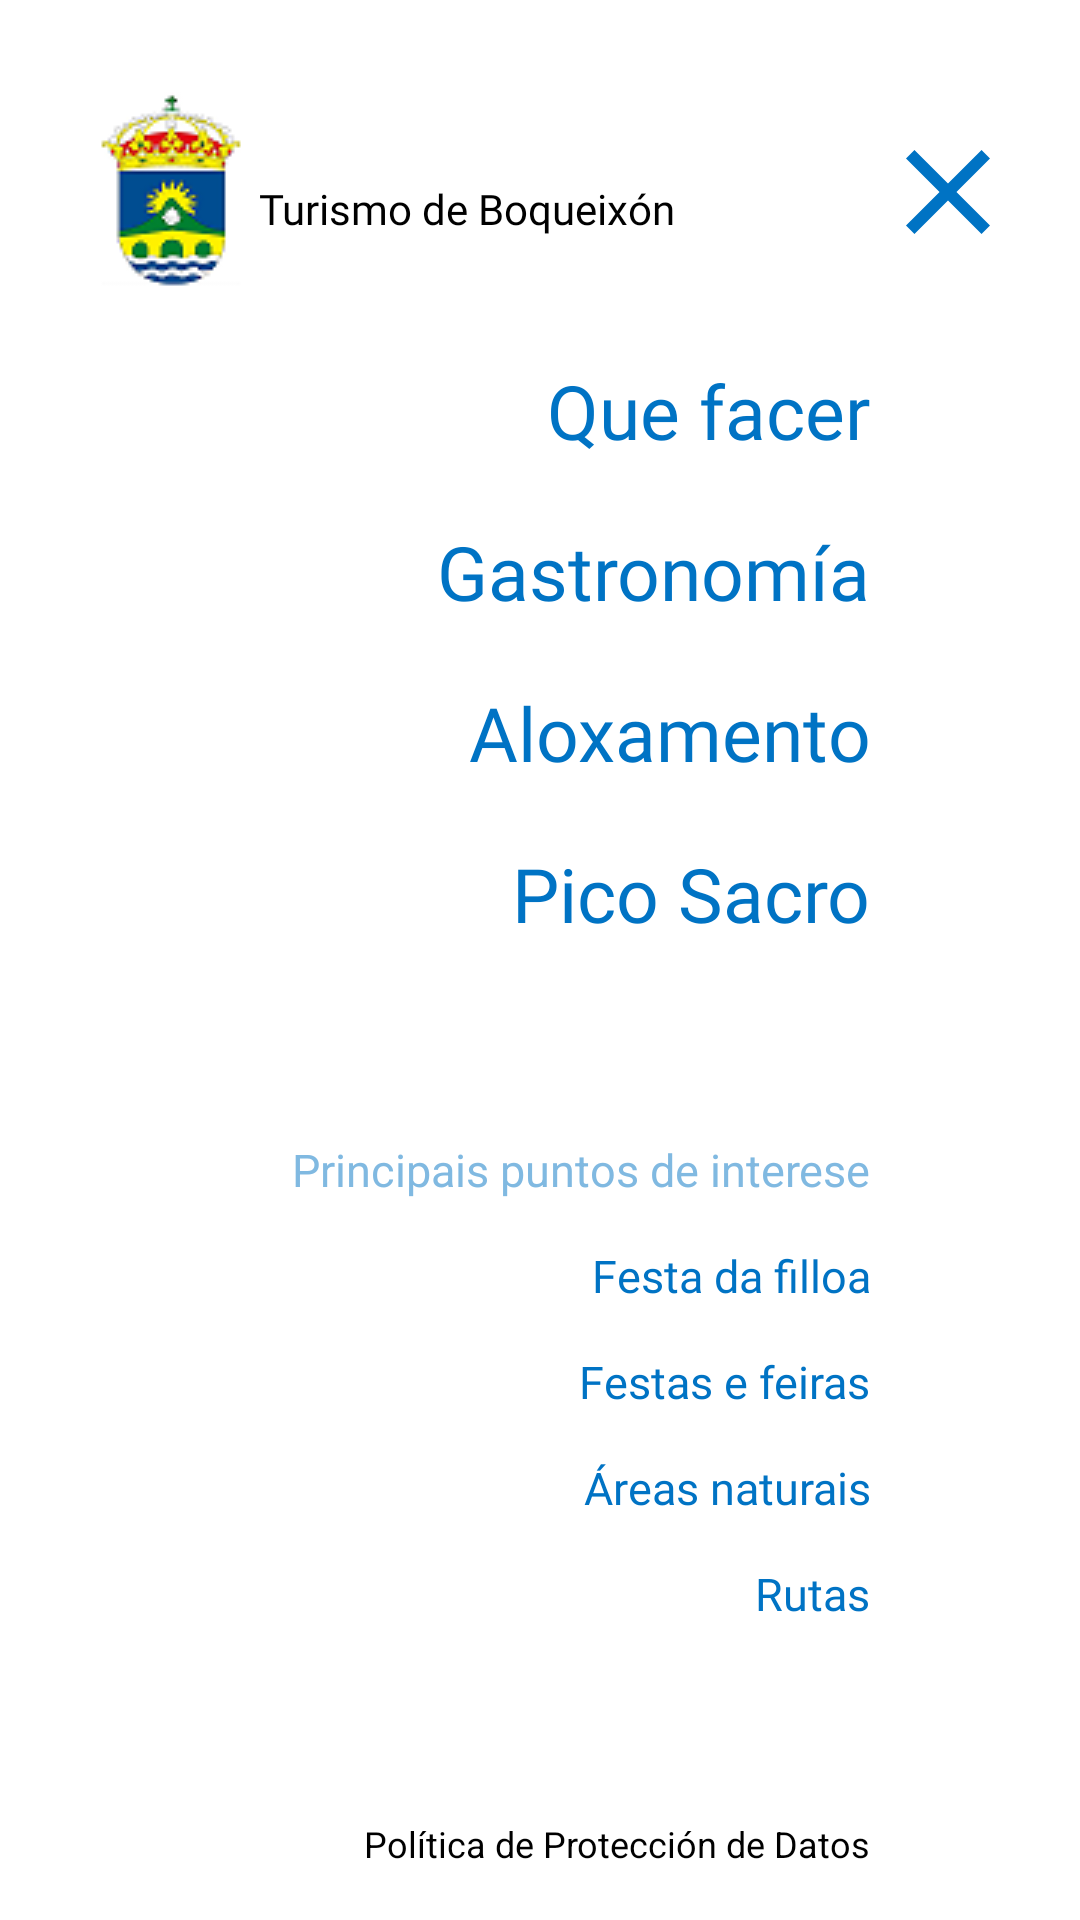

Icon click points for this 1080 × 1920 phone screenshot, format (x,y):
equis: (948,192)
